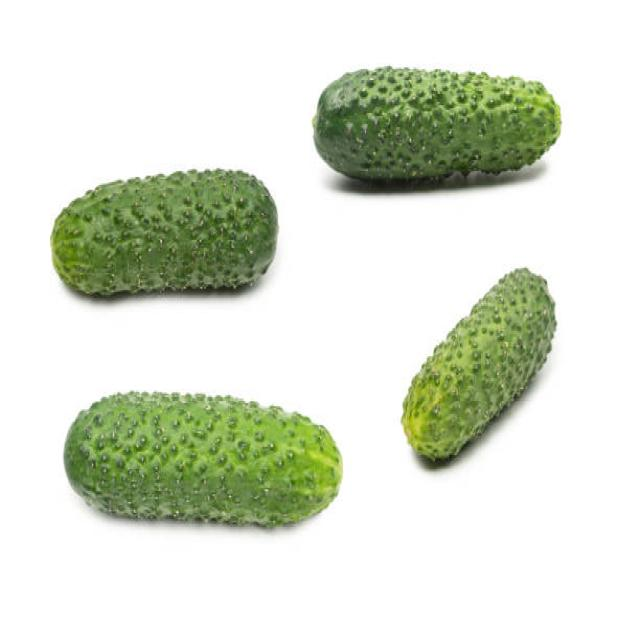cucumber: (62, 388, 343, 534), (312, 62, 562, 187), (402, 263, 554, 462), (50, 169, 278, 298)
